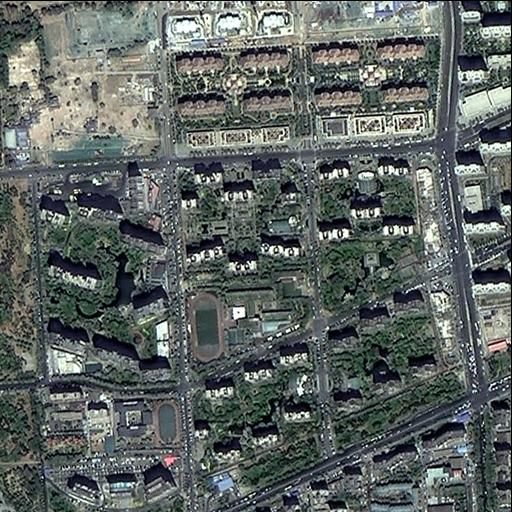school: (185, 277, 321, 371), (113, 388, 190, 453)
